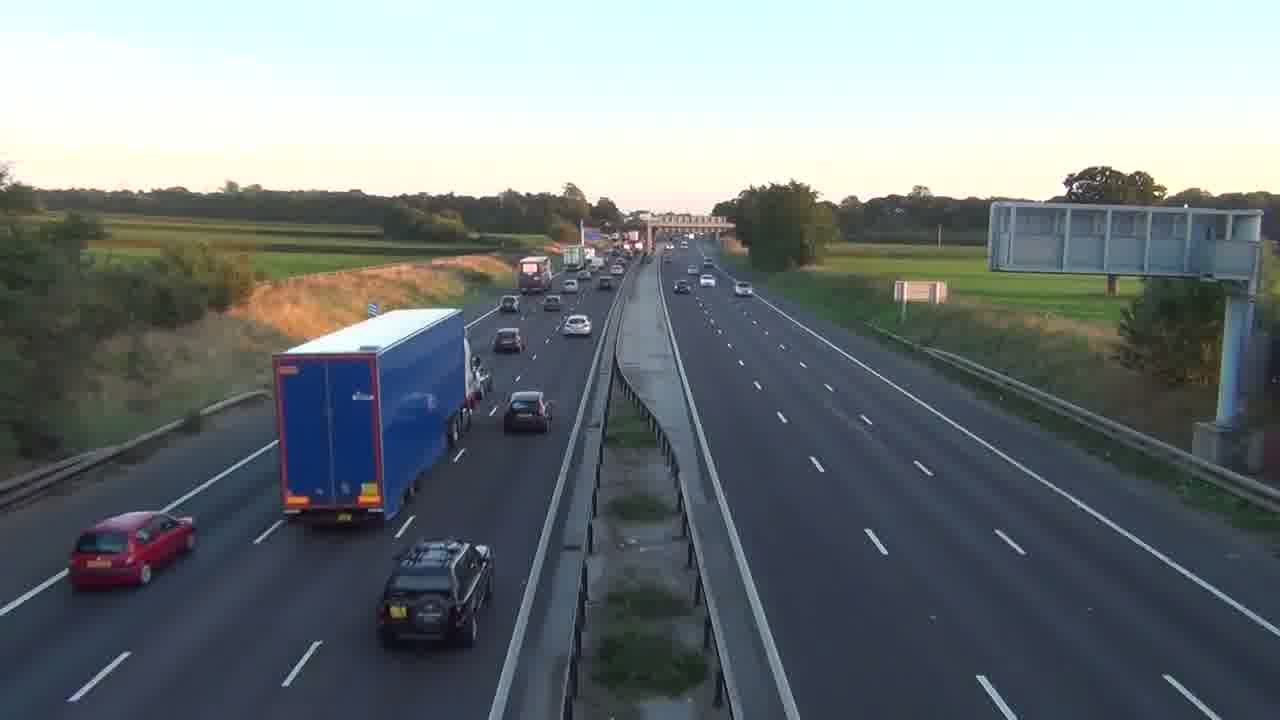car: (375, 538, 495, 648), (68, 509, 197, 591), (504, 389, 551, 434), (493, 327, 523, 354), (561, 313, 591, 336), (496, 293, 519, 315), (543, 293, 562, 311), (672, 278, 692, 294), (732, 281, 753, 296), (699, 275, 715, 287)
truck: (272, 306, 468, 529), (516, 255, 554, 294)
